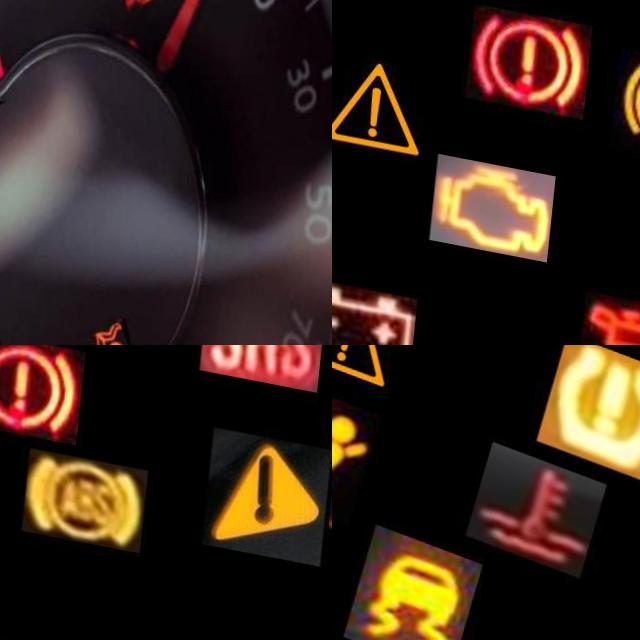Central Warning lamp: (208, 414, 332, 549), (332, 28, 444, 164), (332, 345, 429, 404)
Engine cooling system: (474, 428, 617, 565)
